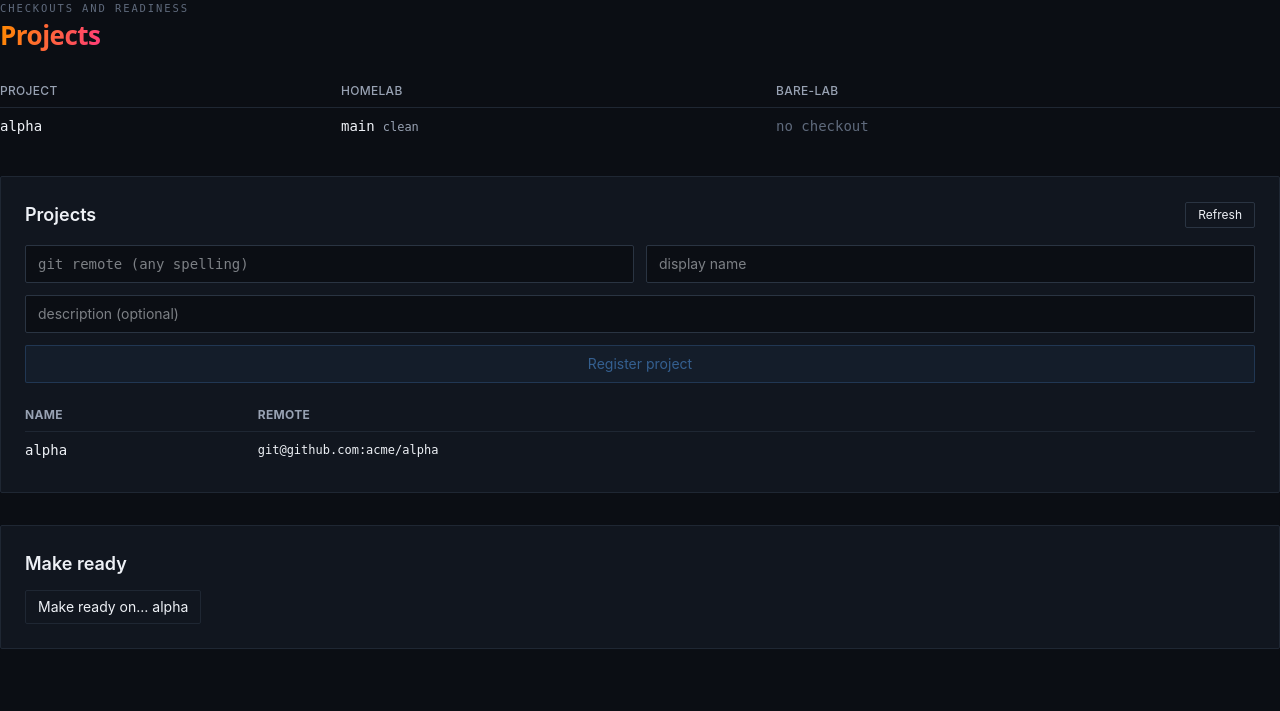
Scenario: ProjectsPage › shows a dry-run plan in execution order
Click the button with test id "ready-for-alpha".
click(113, 608)  # box [25,590,201,624]
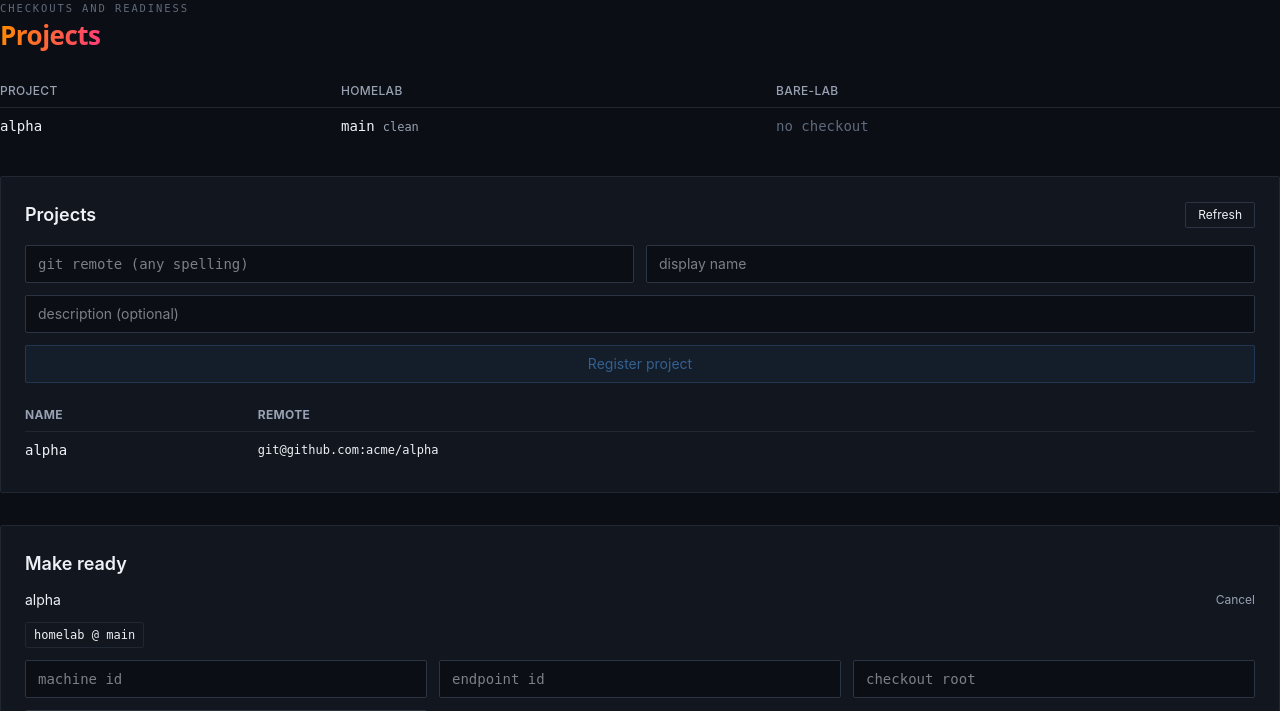
Type "m1" into the field with test id "ready-machine".
click(226, 680); type("m1")  # box [25,660,427,698]
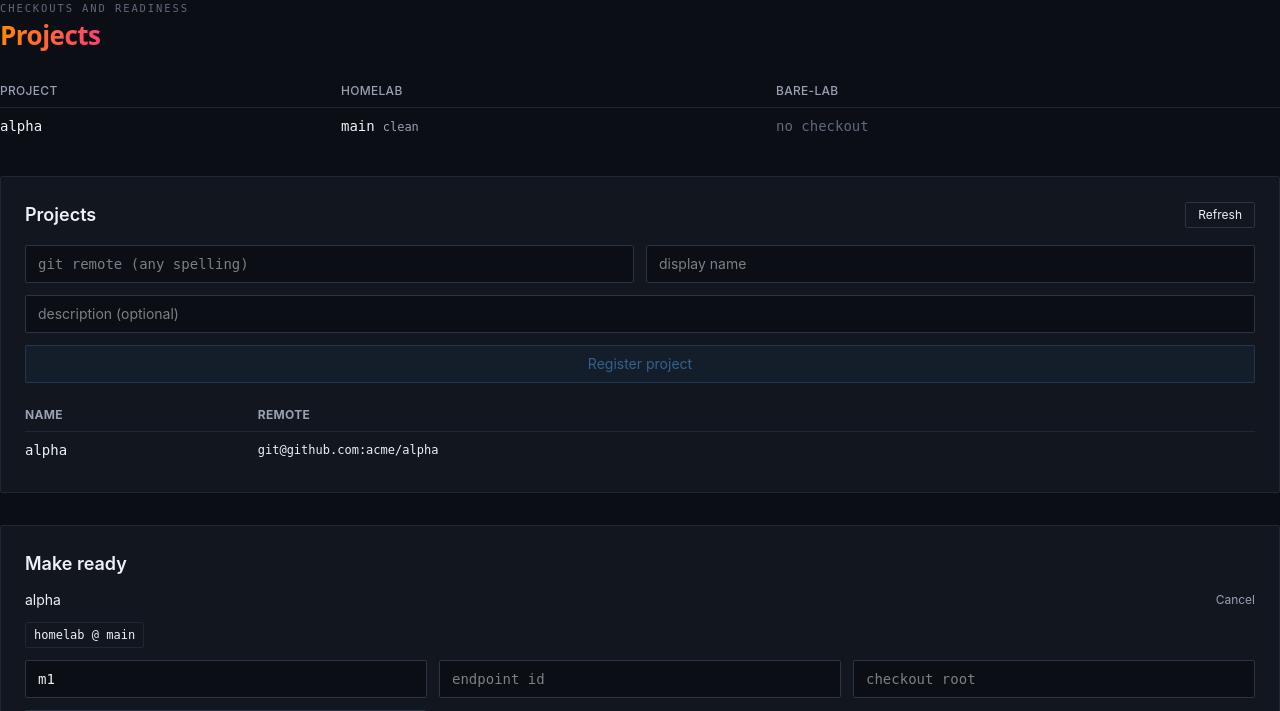
Type "ep1" into the field with test id "ready-endpoint".
click(640, 680); type("ep1")  # box [439,660,841,698]
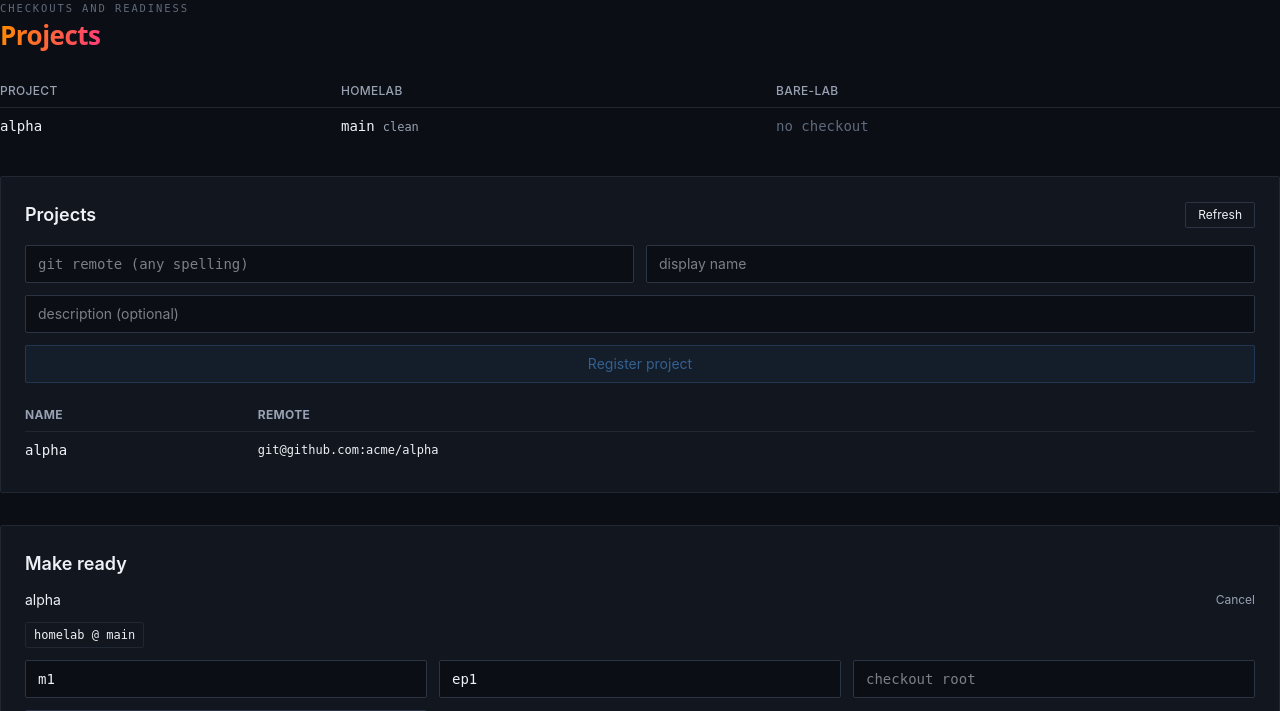
Type "/srv/alpha" into the field with test id "ready-root".
click(1054, 680); type("/srv/alpha")  # box [853,660,1255,698]
(page scrolled)
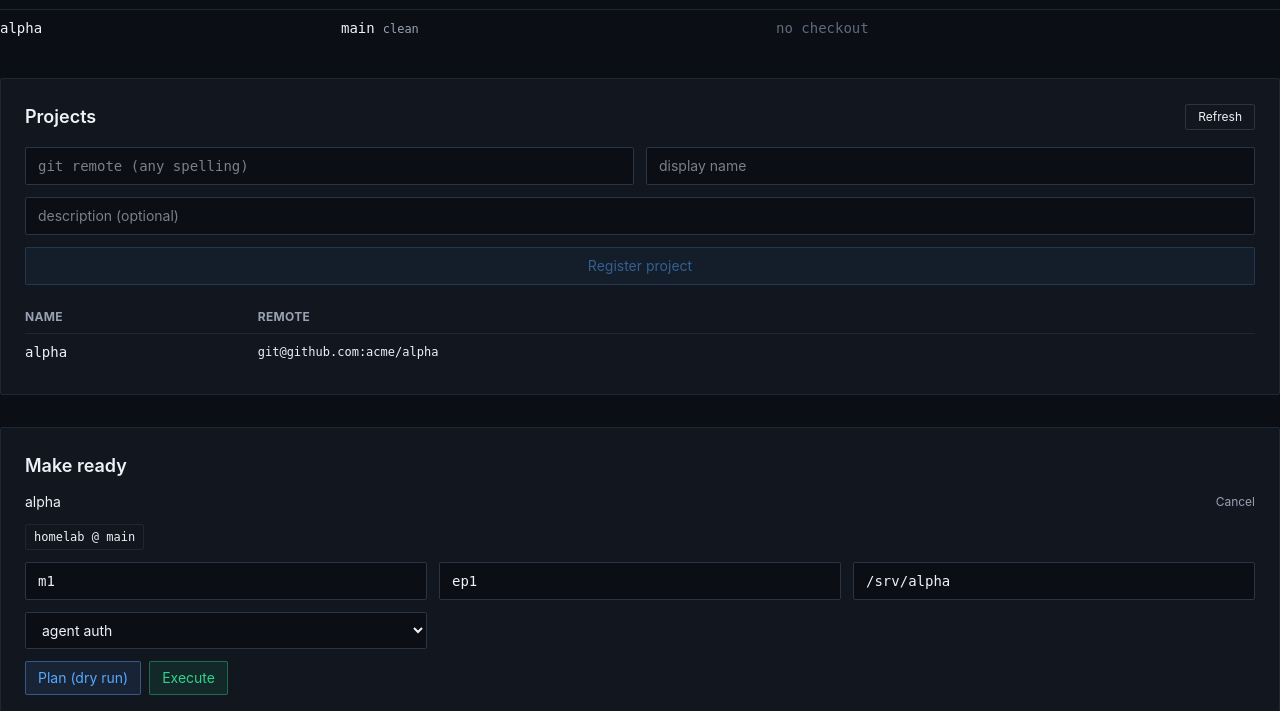
Click the button with test id "ready-plan".
click(83, 678)  # box [25,662,141,696]
(page scrolled)
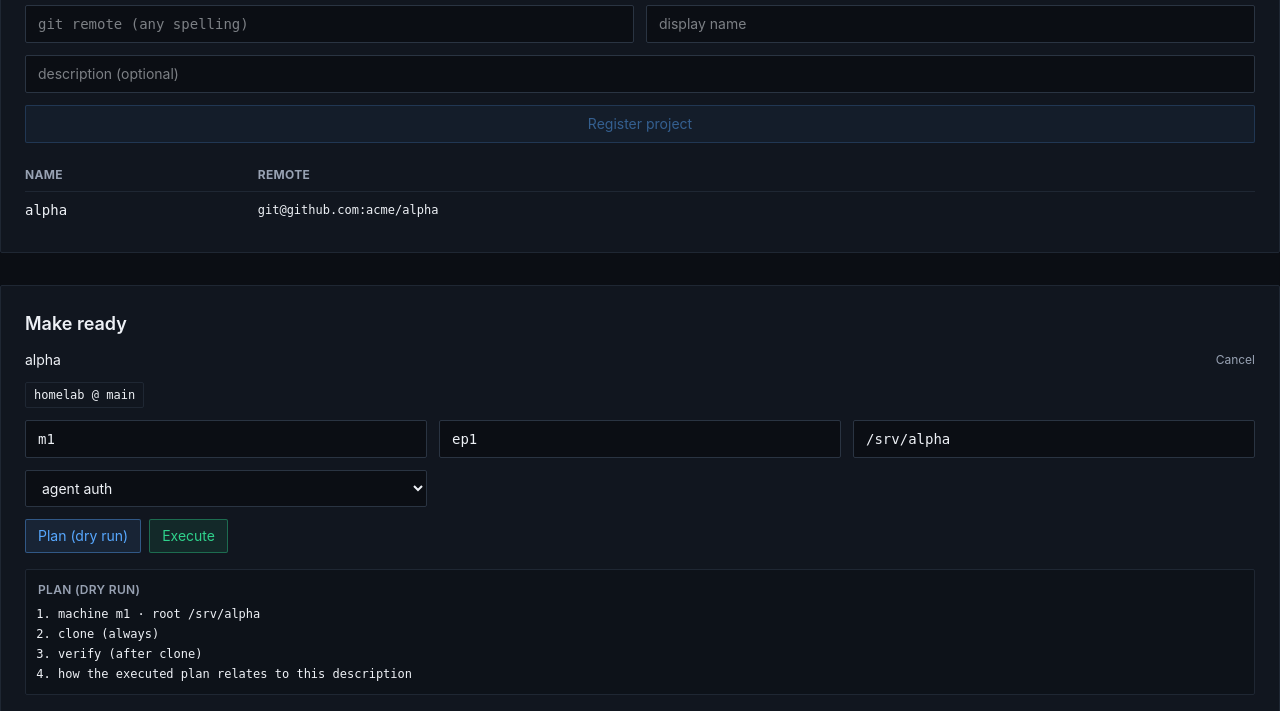
Now the element with test id "ready-plan-view" shows "clone (always)", box [58,628,159,642]
Now the element with test id "ready-plan-view" shows "verify (after clone)", box [58,648,202,662]
